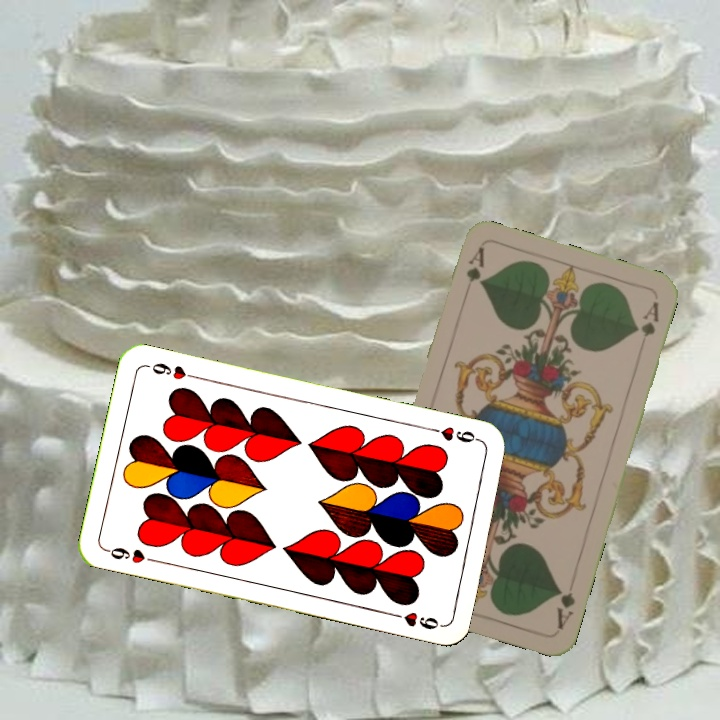GA: (459, 243, 487, 301), (552, 584, 578, 633)
H9: (101, 543, 160, 566), (426, 422, 484, 445)
